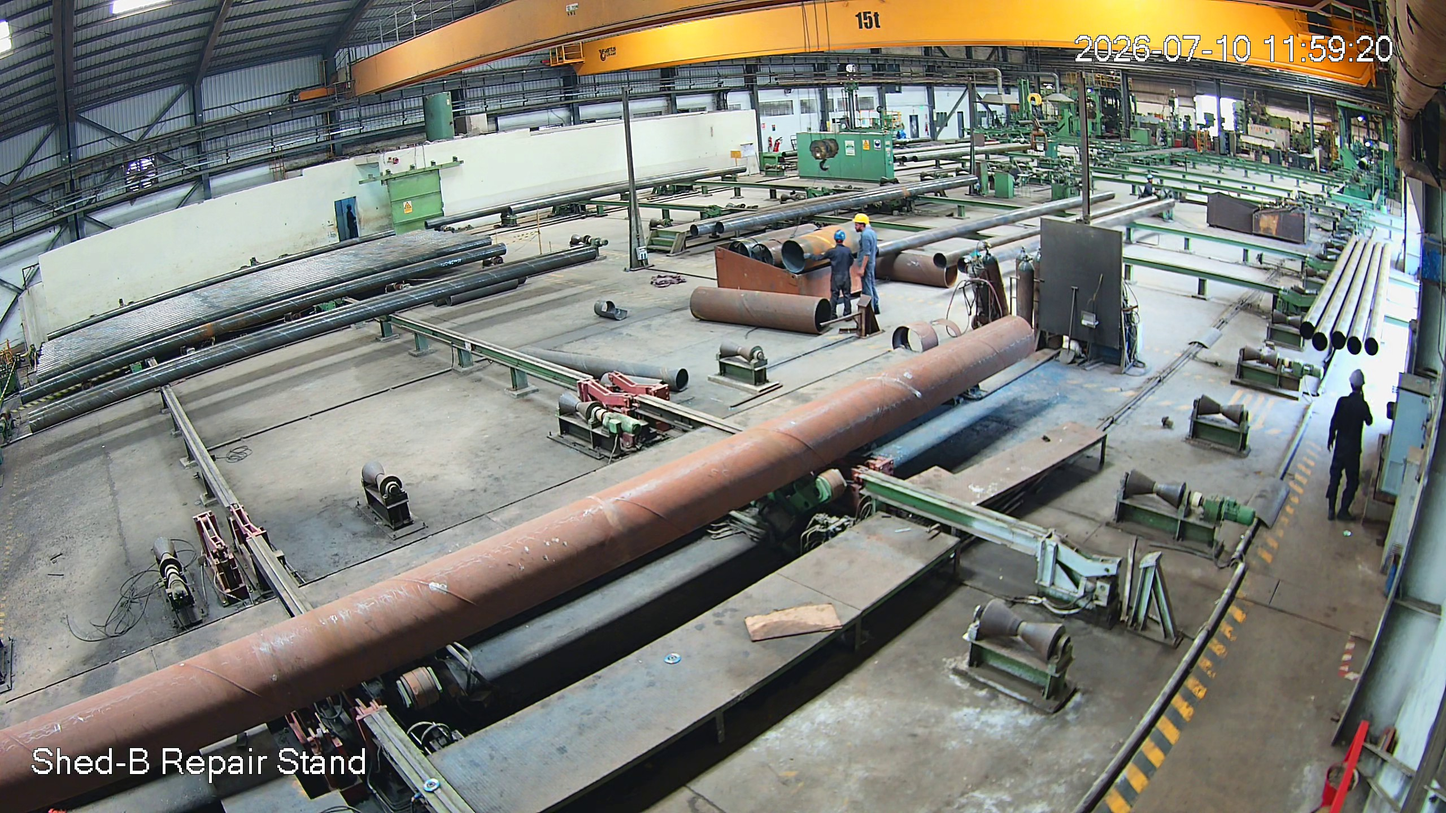Helmet: (1348, 362, 1368, 410), (850, 209, 875, 240), (831, 227, 851, 251)
Person: (1317, 364, 1375, 535), (848, 211, 883, 317), (825, 227, 848, 321)
